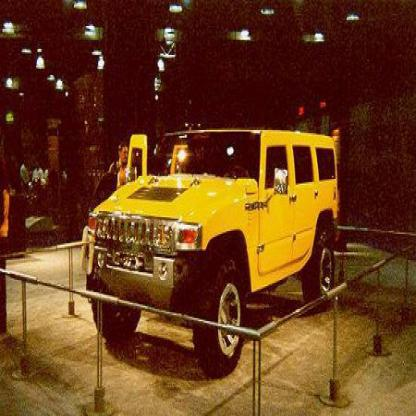Vehicle: (79, 124, 343, 385)
